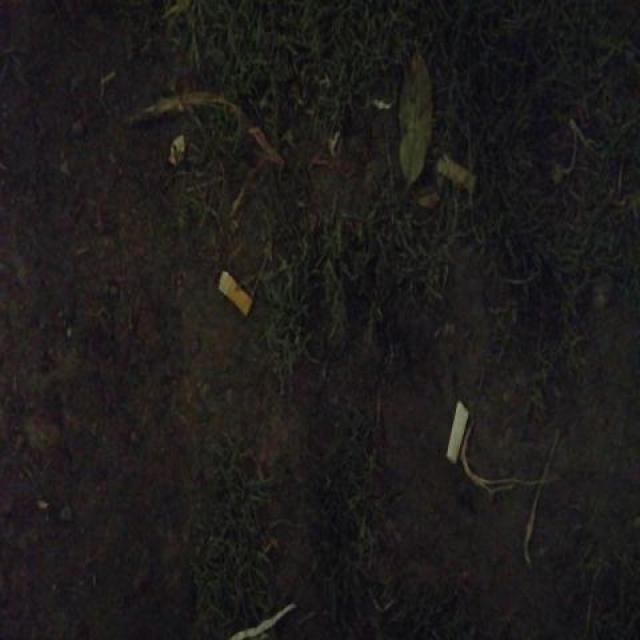non-organic waste: (431, 148, 481, 200), (213, 267, 255, 324), (444, 395, 472, 468)
